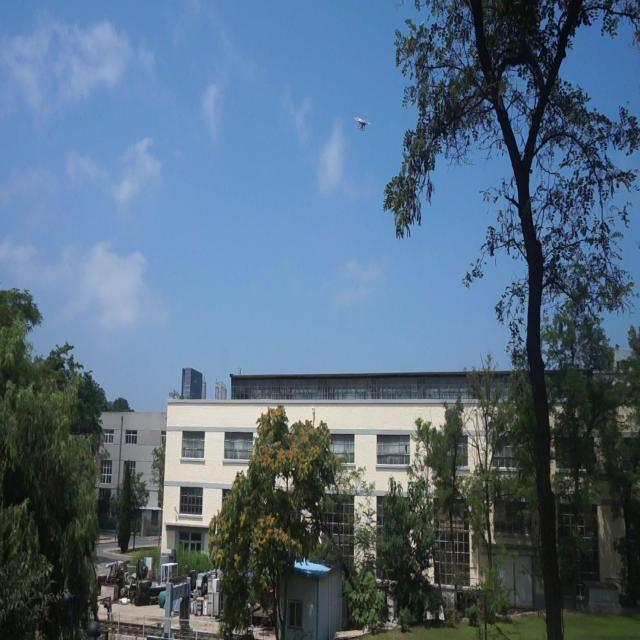UAV: (354, 116, 371, 132)
